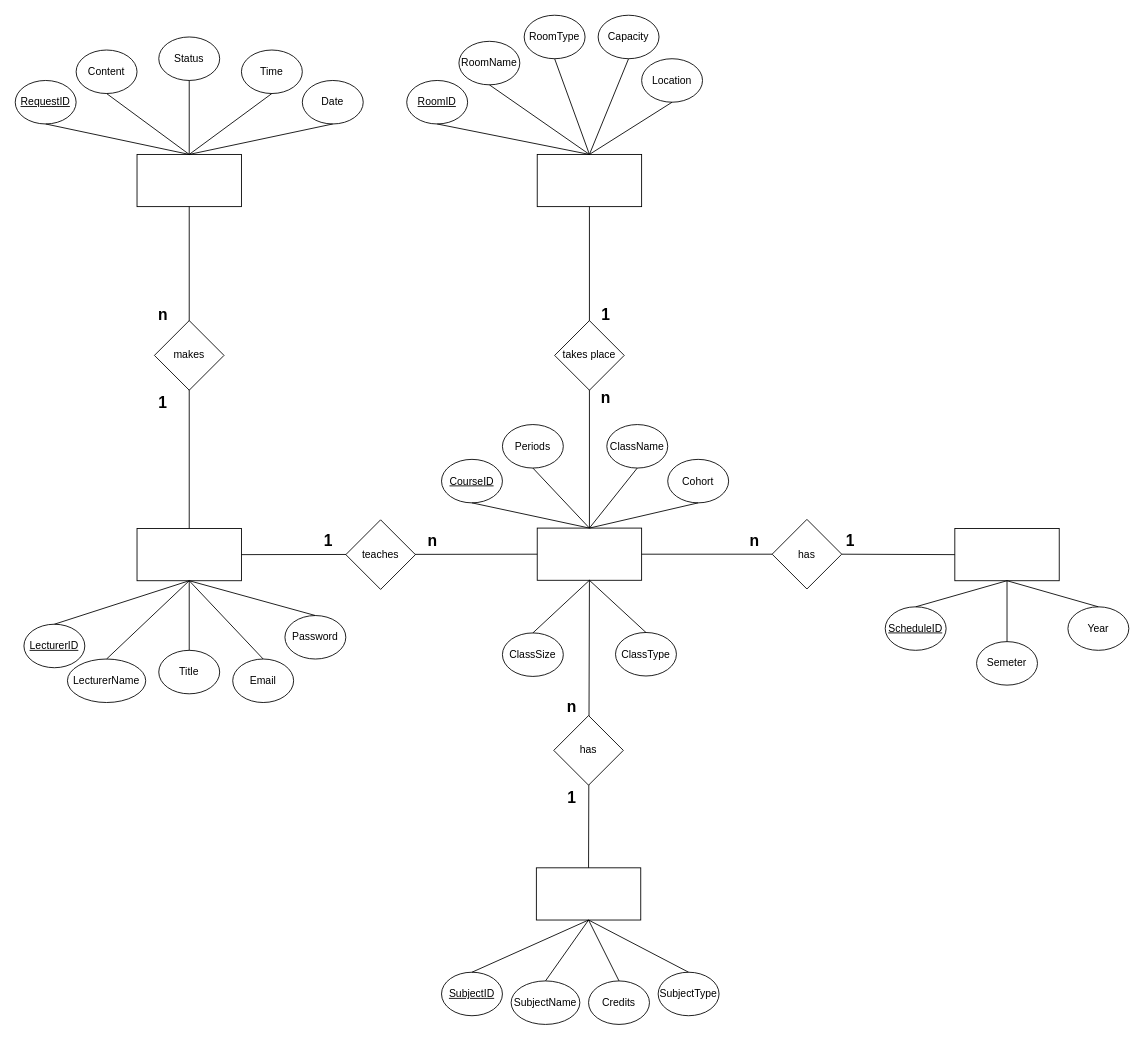
This 1144x1040 diagram has some shape labels left out. The centre of each missing label's shape, as x and y in pixels:
"COURSE" belongs at point (589, 553).
"LECTURER" belongs at point (188, 554).
"REQUEST" belongs at point (188, 180).
"ROOM" belongs at point (589, 180).
"SCHEDULE" belongs at point (1006, 554).
"SUBJECT" belongs at point (588, 893).
